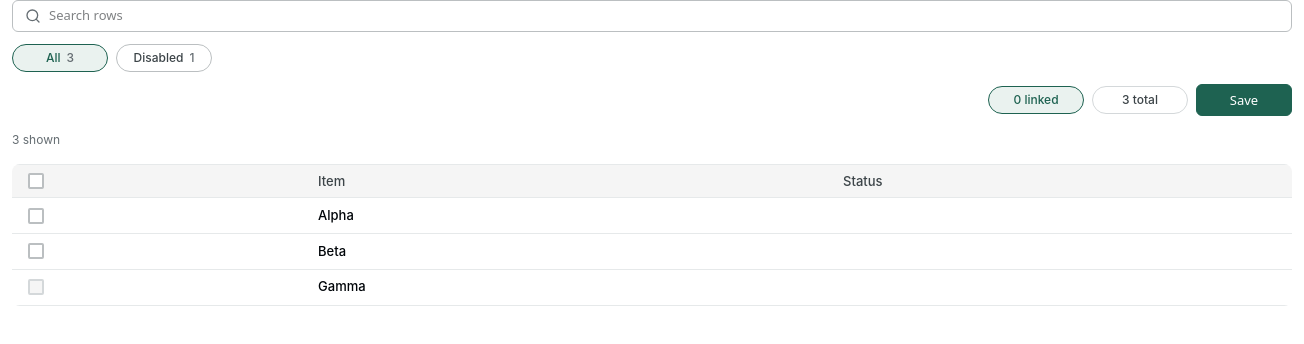
Test: AssignmentSelector › localizes the selection label in lt while retaining the row title and ID
Expected: the text "Alpha" is shown, [318,207,354,223]
Click the checkbox named "Perjungti Alpha". click: (36,216)
box: [28,208,44,224]
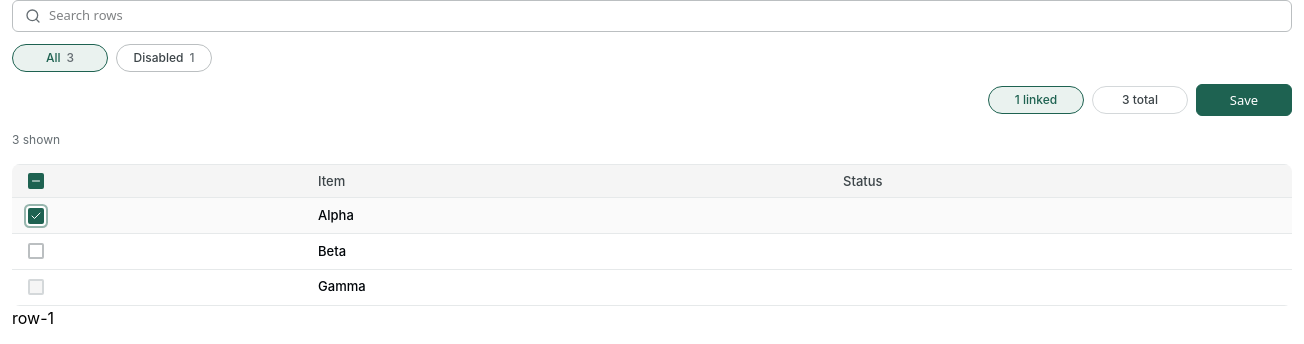
Now the checkbox named "Perjungti Alpha" is checked, box [28,208,44,224]
Now the text with test id "selected-ids" reads "row-1", box [12,308,54,328]
